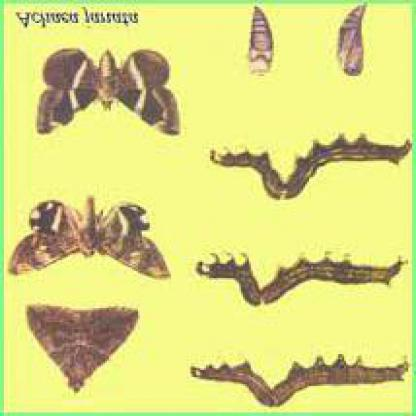fruit sucking moth: (8, 193, 173, 279), (40, 49, 181, 133), (30, 306, 140, 393)
